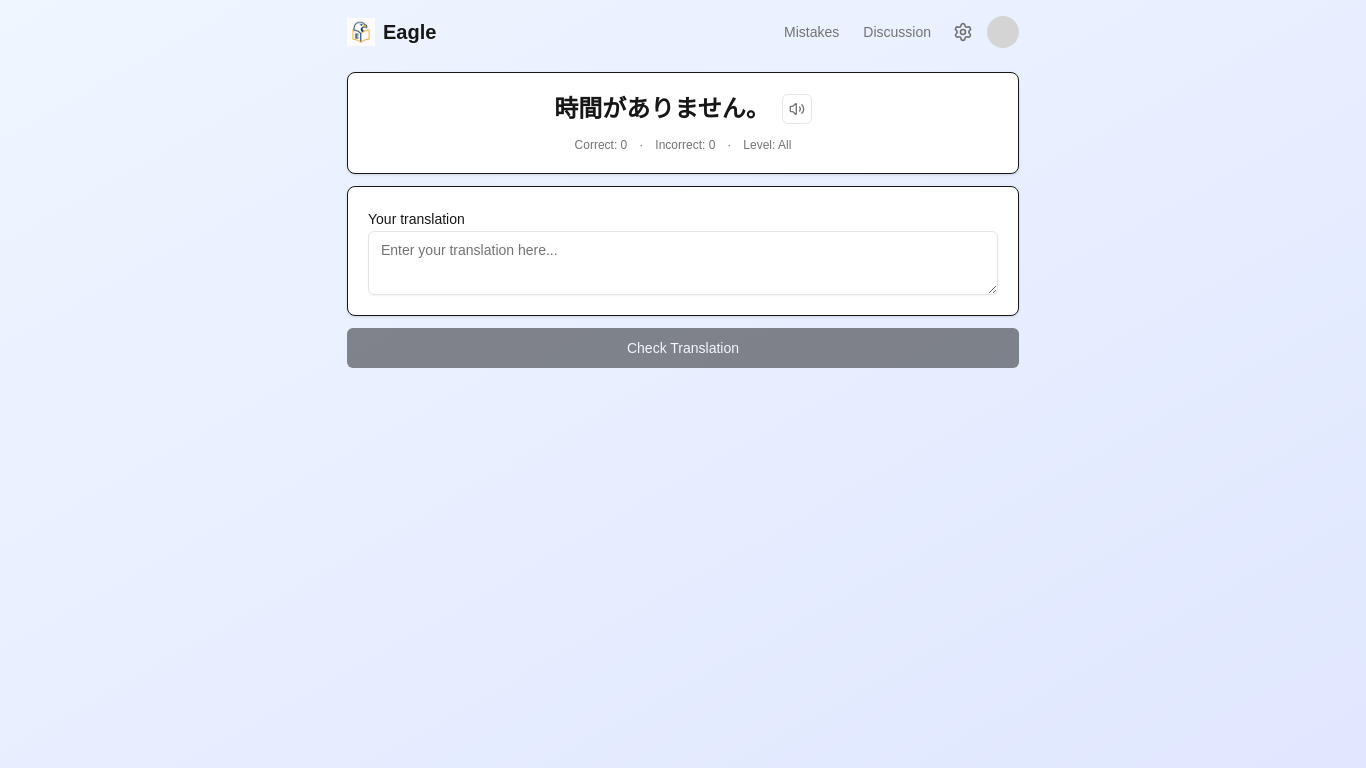
Test case: settings › opens the settings sheet from the header gear
This screenshot has width=1366, height=768.
Check: the text "時間がありません。" is shown, box [554, 93, 770, 125]
Click the button named "Settings". click: (963, 32)
box: [947, 16, 979, 48]
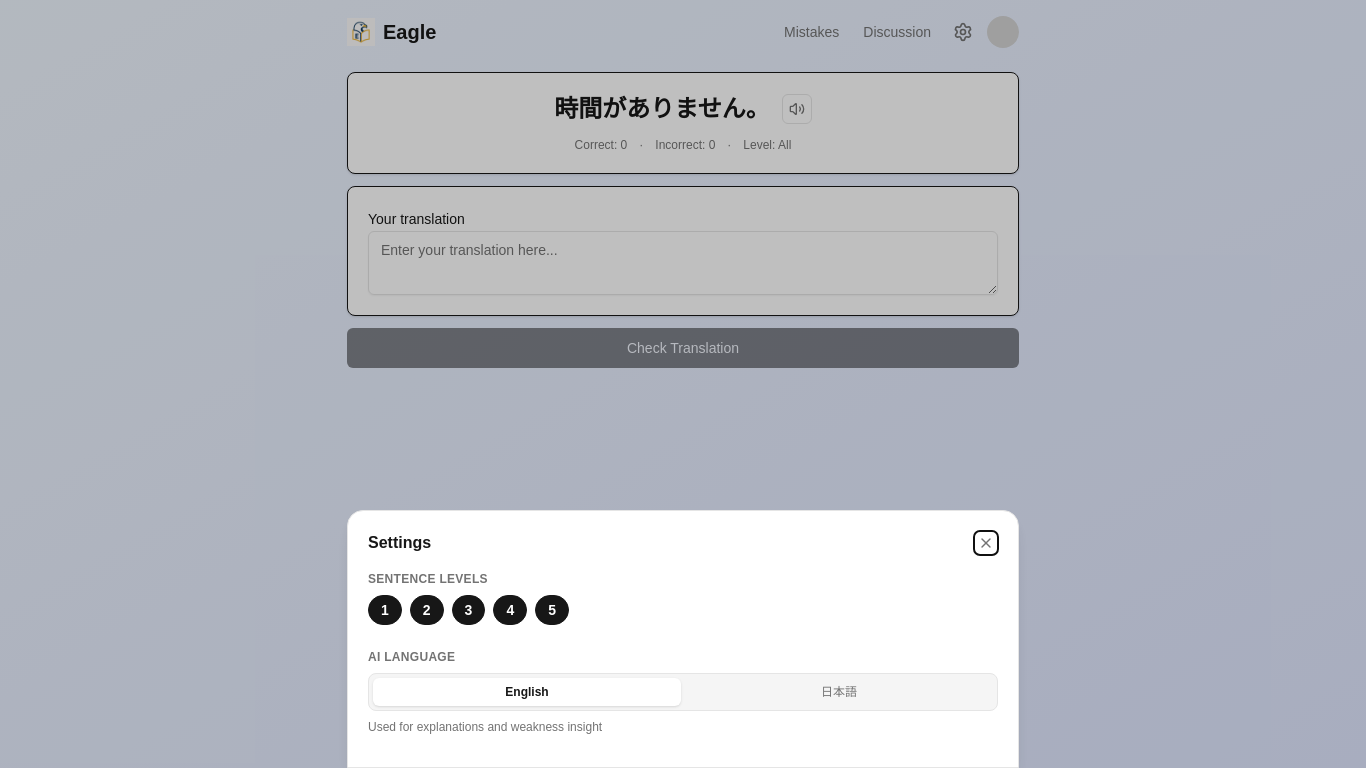
Check: the dialog "Settings" is shown, box [347, 510, 1019, 767]
